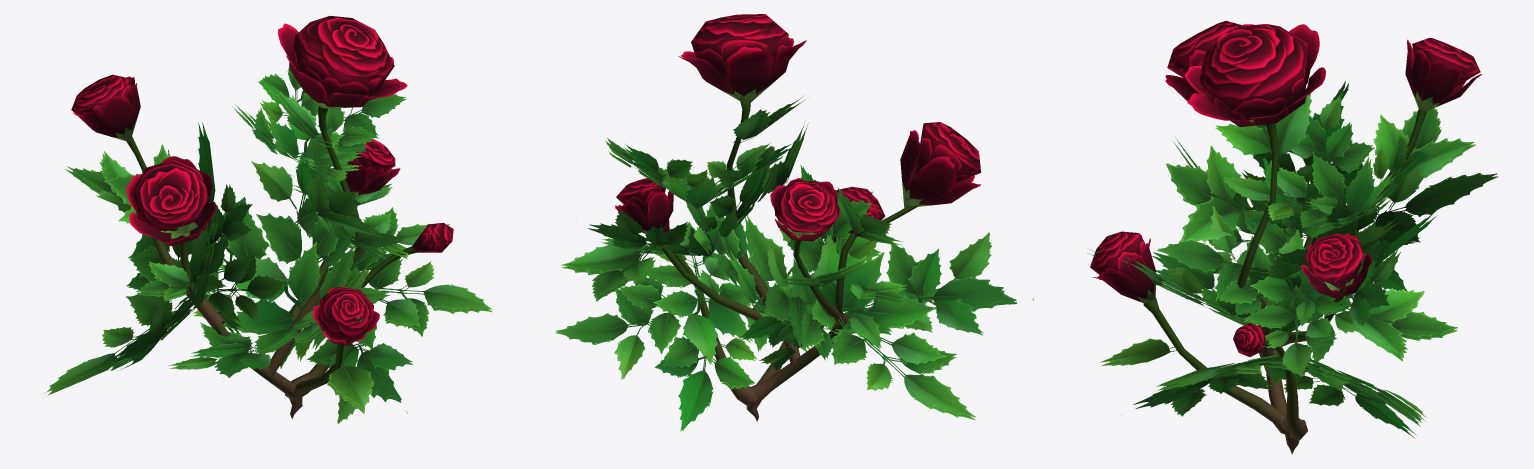
Rendered from SE_Rose_07.fbx.
3 renders of one model, left to right at view 1: azimuth 30°, elevation 25°; view 2: azimuth 150°, elevation 25°; view 3: azimuth 270°, elevation 25°, orthographic. The views are drawn at different scales.
Parts seen in each view (by area): view 1: SE_Rose_07; view 2: SE_Rose_07; view 3: SE_Rose_07.
Part boxes in pixels (x1=…): SE_Rose_07: x1=43, y1=16, x2=492, y2=423; SE_Rose_07: x1=556, y1=14, x2=1033, y2=431; SE_Rose_07: x1=1087, y1=21, x2=1497, y2=454.
Size of the model in its own units: 4.61 by 4.06 by 3.61.
